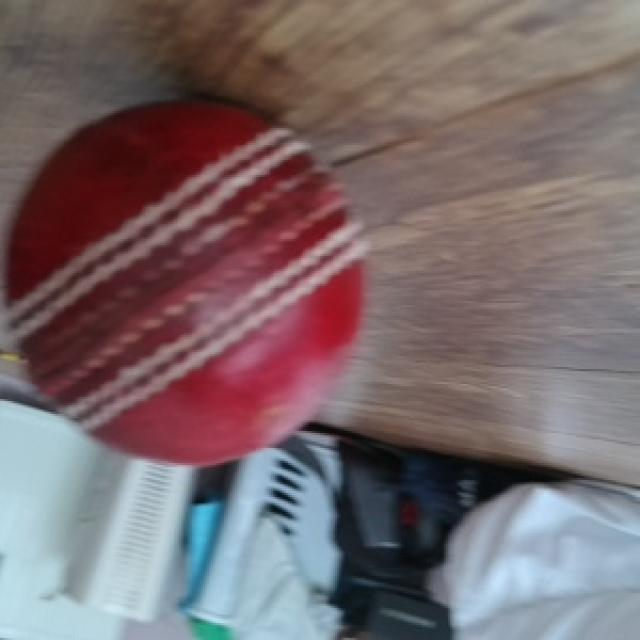ball: (0, 96, 371, 471)
